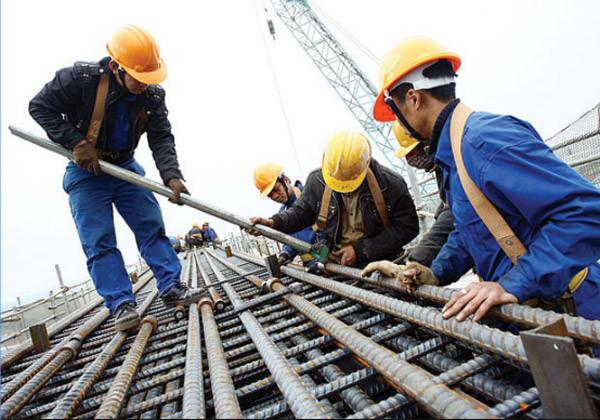Gloves: (72, 138, 101, 176), (166, 177, 191, 205)
Helmet: (372, 35, 461, 122), (105, 24, 167, 84), (321, 129, 371, 193), (253, 162, 283, 198)
Person: (366, 35, 599, 360), (0, 18, 168, 325), (244, 130, 419, 270), (252, 162, 317, 265)
Safety Boot: (112, 301, 141, 331)
bare-arms: (444, 276, 520, 326), (328, 241, 359, 272), (241, 213, 273, 236)
no-vest: (432, 121, 599, 311), (23, 66, 172, 180), (305, 175, 406, 257)
